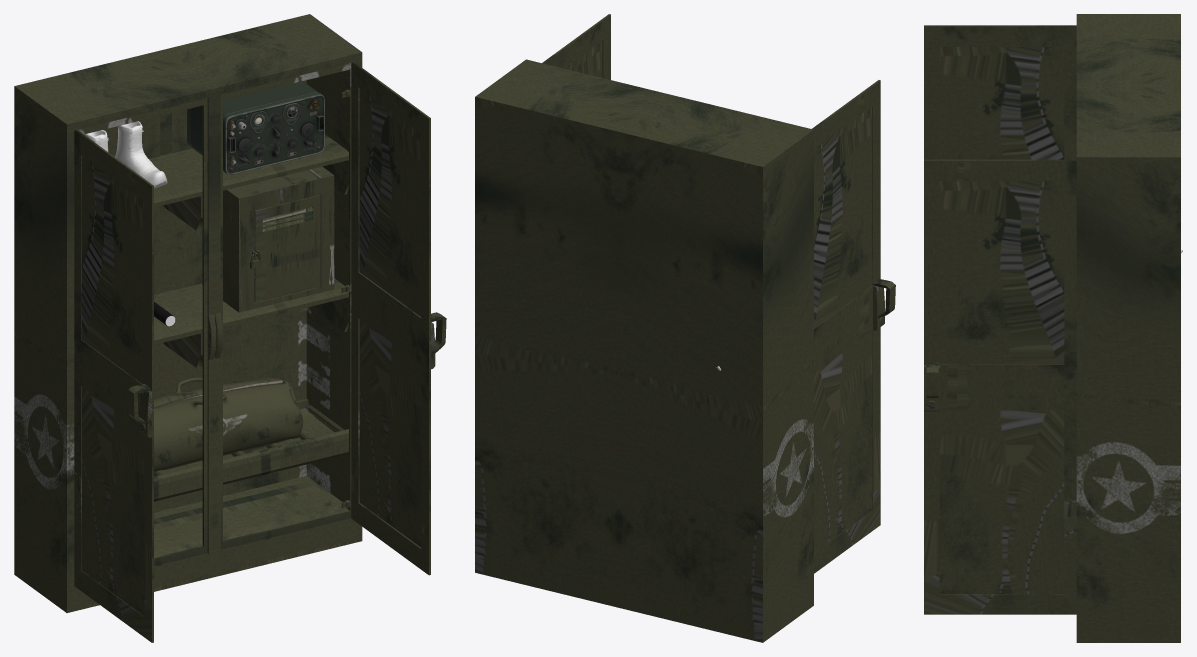
Rendered from Ranger station.fbx.
3 renders of one model, left to right at view 1: azimuth 30°, elevation 25°; view 2: azimuth 150°, elevation 25°; view 3: azimuth 270°, elevation 25°, orthographic. The views are drawn at different scales.
Parts seen in each view (by area): view 1: Locker_Low_WeaponLocker_0, defaultMaterial.007, defaultMaterial, RB_M, Object_13; view 2: Locker_Low_WeaponLocker_0; view 3: Locker_Low_WeaponLocker_0.
Boxes of the visible parts, <box> form: Locker_Low_WeaponLocker_0: <box>14,14,446,642</box>; defaultMaterial.007: <box>202,166,334,312</box>; defaultMaterial: <box>154,376,303,472</box>; RB_M: <box>187,81,324,174</box>; Object_13: <box>84,121,167,188</box>; Locker_Low_WeaponLocker_0: <box>475,14,895,642</box>; Locker_Low_WeaponLocker_0: <box>924,14,1180,642</box>.
Size of the model in its own units: 103 by 154 by 74.31.
Materials: 11 (6 with a texture image).
